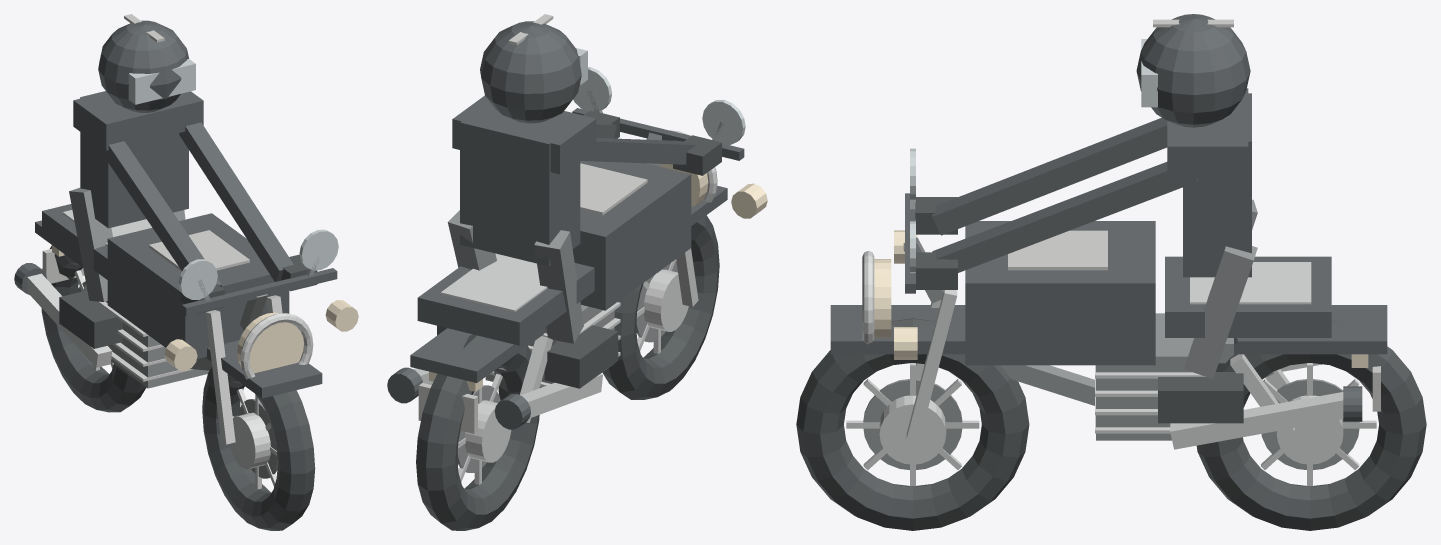
The model's file is motorcycle.glb.
The picture shows the model from 3 angles, left to right: view 1: azimuth 30°, elevation 25°; view 2: azimuth 150°, elevation 25°; view 3: azimuth 270°, elevation 25°; orthographic projection. The views are drawn at different scales.
Parts seen in each view (by area): view 1: SculptedTank, FrontWheel, RiderTorso, Helmet, RearWheel, Rider shoulder, RiderArm.001, RiderArm, FrontFender, Boot, RiderLeg, Headlamp (+20 smaller); view 2: RiderTorso, RearWheel, SculptedTank, FrontWheel, Helmet, Saddle, Rider shoulder, RearFender, SaddleStitch, Boot, RiderLeg, RiderArm (+20 smaller); view 3: SculptedTank, FrontWheel, RearWheel, Helmet, RiderArm, RiderArm.001, Saddle, RiderTorso, Engine, Rider shoulder, RearFender, Exhaust pipe.001 (+18 smaller).
Part boxes in pixels (<box>): SculptedTank: <box>107,213,289,358</box>; FrontWheel: <box>202,366,315,530</box>; RiderTorso: <box>80,91,188,228</box>; Helmet: <box>98,20,188,112</box>; RearWheel: <box>41,245,146,412</box>; Rider shoulder: <box>73,91,203,150</box>; RiderArm.001: <box>179,122,293,281</box>; RiderArm: <box>96,141,221,286</box>; FrontFender: <box>205,340,322,398</box>; Boot: <box>59,290,122,348</box>; RiderLeg: <box>69,187,112,301</box>; Headlamp: <box>237,312,303,373</box>; RiderTorso: <box>460,120,580,266</box>; RearWheel: <box>416,334,539,530</box>; SculptedTank: <box>572,161,691,310</box>; FrontWheel: <box>602,215,719,399</box>; Helmet: <box>480,21,581,123</box>; Saddle: <box>417,263,594,345</box>; Rider shoulder: <box>452,95,596,174</box>; RearFender: <box>410,328,544,382</box>; SaddleStitch: <box>440,253,547,311</box>; Boot: <box>544,325,618,388</box>; RiderLeg: <box>534,230,583,343</box>; RiderArm: <box>579,138,695,164</box>; SculptedTank: <box>965,221,1155,365</box>; FrontWheel: <box>796,318,1029,530</box>; RearWheel: <box>1196,321,1426,530</box>; Helmet: <box>1136,14,1250,127</box>; RiderArm: <box>932,117,1167,235</box>; RiderArm.001: <box>932,162,1197,272</box>; Saddle: <box>1165,256,1331,337</box>; RiderTorso: <box>1183,93,1251,277</box>; Engine: <box>1096,313,1194,440</box>; Rider shoulder: <box>1167,88,1248,178</box>; RearFender: <box>1237,305,1387,354</box>; Exhaust pipe.001: <box>1170,392,1343,449</box>.
Bounding box in the file's own units: 1.1 × 2.37 × 2.65.
